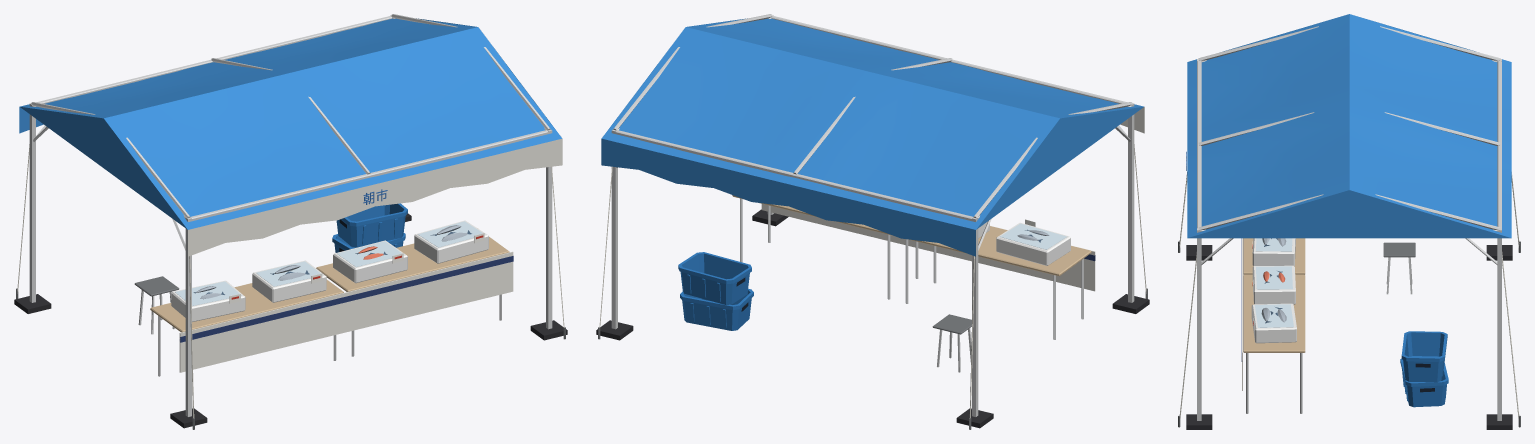
Rendered from market_tent.glb.
The picture shows the model from 3 angles, left to right: view 1: azimuth 30°, elevation 25°; view 2: azimuth 150°, elevation 25°; view 3: azimuth 270°, elevation 25°; orthographic projection. The views are drawn at different scales.
Parts seen in each view (by area): view 1: market_tent_body; view 2: market_tent_body; view 3: market_tent_body.
Boxes of the visible parts, x1,y1,x2,y2 form: market_tent_body: [14, 14, 567, 429]; market_tent_body: [596, 14, 1149, 429]; market_tent_body: [1178, 14, 1520, 429].
Size of what is drawn, in the model's own units: 4.26 by 2.62 by 3.42.
